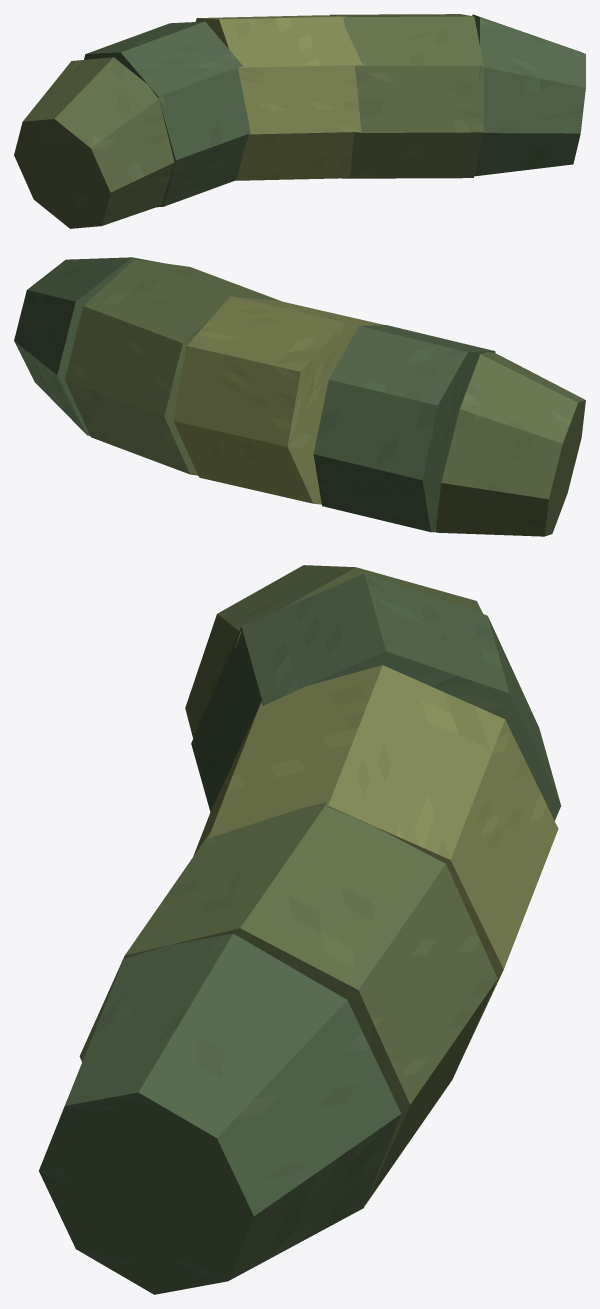
Rendered from pickle.glb.
The picture shows the model from 3 angles, top to bottom: view 1: azimuth 30°, elevation 25°; view 2: azimuth 150°, elevation 25°; view 3: azimuth 270°, elevation 25°; orthographic projection. The views are drawn at different scales.
Visible parts, largest first — view 1: block_warty cucumber 3, block_warty cucumber 0, block_warty cucumber 2, block_warty cucumber 1, block_warty cucumber 4; view 2: block_warty cucumber 2, block_warty cucumber 1, block_warty cucumber 3, block_warty cucumber 0, block_warty cucumber 4; view 3: block_warty cucumber 4, block_warty cucumber 3, block_warty cucumber 2, block_warty cucumber 1, block_warty cucumber 0.
Boxes of the visible parts, <box> form: block_warty cucumber 3: <box>329,14,483,178</box>; block_warty cucumber 0: <box>14,57,174,228</box>; block_warty cucumber 2: <box>195,15,362,180</box>; block_warty cucumber 1: <box>84,21,250,207</box>; block_warty cucumber 4: <box>472,14,585,176</box>; block_warty cucumber 2: <box>173,296,383,504</box>; block_warty cucumber 1: <box>313,325,495,532</box>; block_warty cucumber 3: <box>65,259,280,475</box>; block_warty cucumber 0: <box>435,351,585,536</box>; block_warty cucumber 4: <box>14,257,163,435</box>; block_warty cucumber 4: <box>39,933,401,1294</box>; block_warty cucumber 3: <box>79,802,497,1205</box>; block_warty cucumber 2: <box>193,665,558,1062</box>; block_warty cucumber 1: <box>191,573,560,820</box>; block_warty cucumber 0: <box>185,565,482,738</box>.
Size of the model in its own units: 0.1 by 0.0339 by 0.0439.
1 material, 1 textured.
